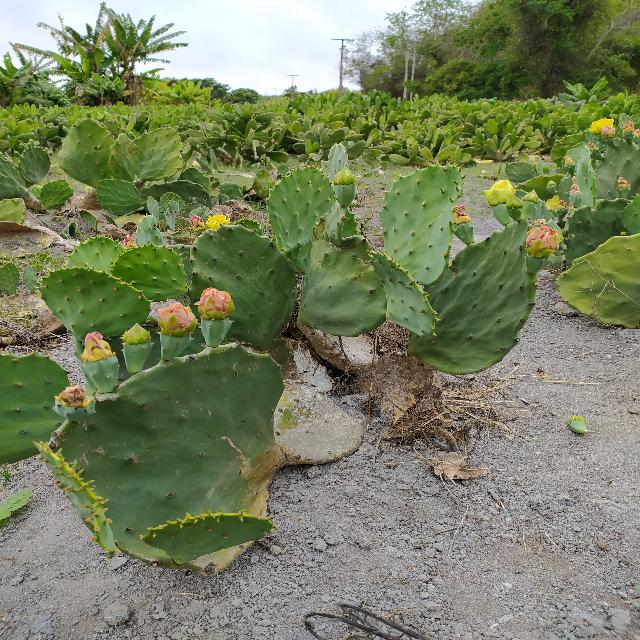adequadas para corte: (483, 147, 597, 255), (1, 410, 110, 518), (280, 16, 366, 124), (416, 29, 496, 129), (118, 309, 183, 427), (0, 305, 65, 413), (515, 86, 605, 152), (86, 105, 146, 167), (146, 100, 203, 158), (108, 48, 162, 109), (183, 11, 232, 73), (228, 68, 263, 128), (204, 47, 227, 99), (198, 92, 219, 146)
inadequadas para corte: (102, 396, 214, 548), (194, 265, 317, 373), (216, 193, 341, 276), (0, 180, 72, 318), (326, 269, 417, 377), (277, 171, 366, 276), (73, 250, 152, 349), (473, 276, 558, 351), (122, 225, 202, 301), (226, 129, 305, 195), (1, 98, 87, 158), (415, 287, 476, 370), (396, 144, 436, 257), (589, 79, 640, 160), (304, 87, 355, 167), (15, 27, 72, 86), (453, 125, 494, 203), (85, 39, 130, 93), (193, 164, 229, 230), (425, 140, 465, 186), (567, 94, 596, 149), (47, 1, 74, 57), (340, 137, 377, 177)
